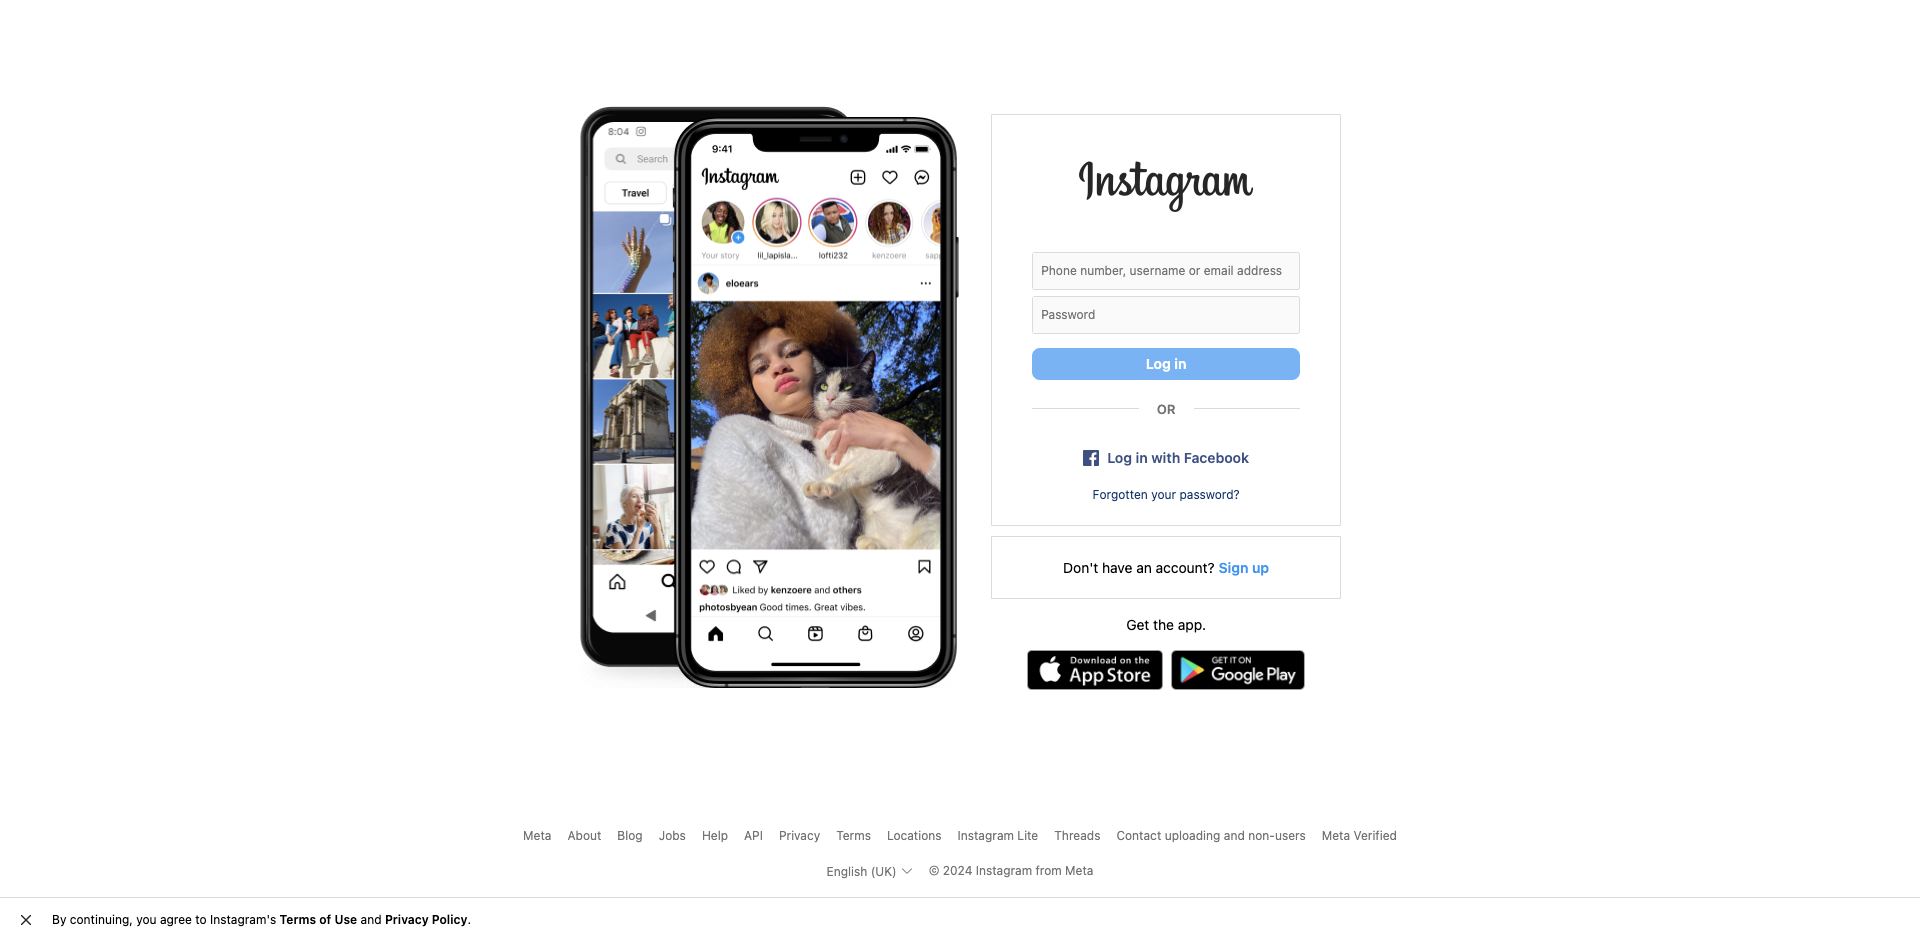button: (1079, 161, 1254, 216), (1032, 348, 1300, 380), (1032, 447, 1300, 467), (12, 905, 40, 934)
dropdown: (827, 865, 912, 877)
input: (1033, 252, 1291, 289), (1033, 297, 1291, 333)
label: (1033, 252, 1291, 289), (1033, 297, 1291, 333)
link: (1027, 649, 1163, 693), (992, 486, 1340, 504), (1171, 649, 1305, 693), (1117, 830, 1305, 841), (384, 912, 468, 928), (279, 912, 358, 928), (958, 830, 1038, 841), (1218, 559, 1269, 576), (1321, 830, 1397, 841), (887, 830, 942, 841), (1054, 830, 1101, 841), (779, 830, 820, 841), (567, 830, 601, 841), (836, 830, 871, 841), (523, 830, 551, 841), (659, 830, 686, 841), (702, 830, 729, 841), (617, 830, 643, 841), (744, 830, 763, 841)
